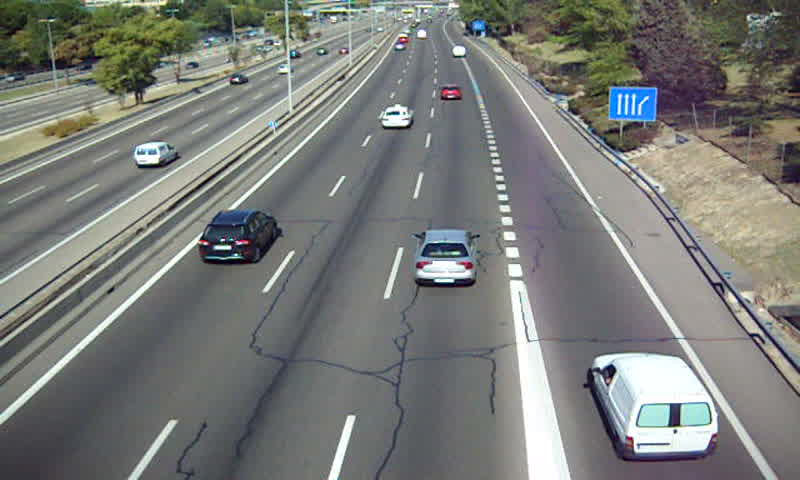car: (200, 211, 278, 264), (413, 230, 477, 286), (380, 104, 413, 130), (440, 84, 462, 101)
van: (592, 352, 718, 461)
